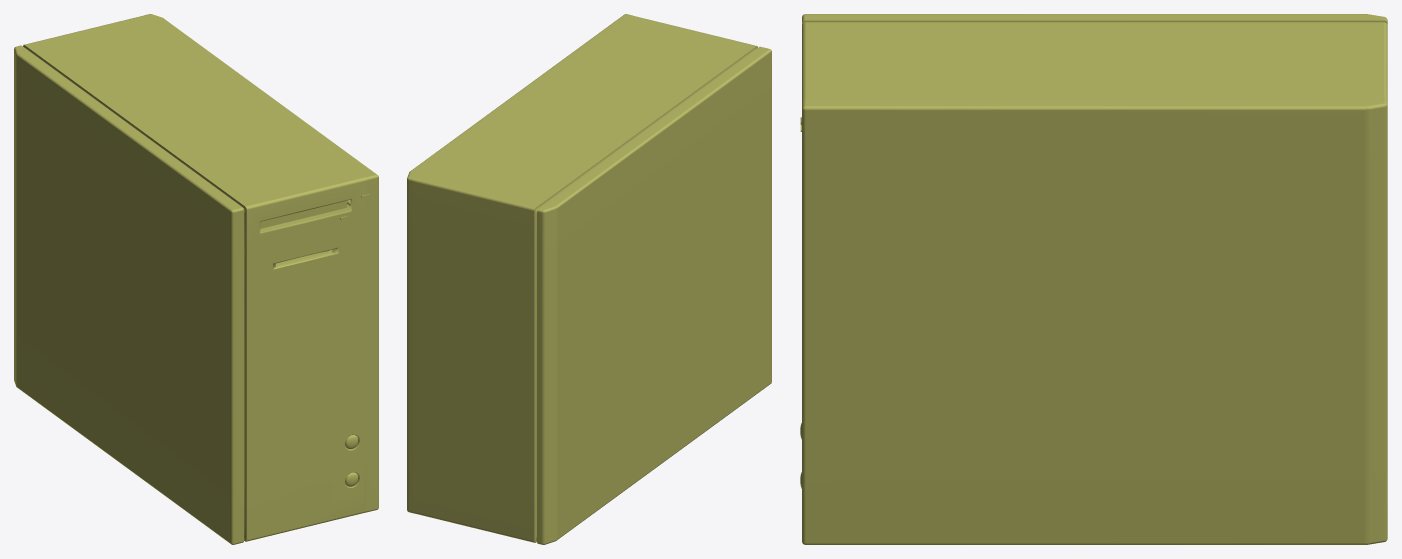
File: Computer_Gen_1_Tower.fbx
3 views of the same model, side by side, from view 1: azimuth 30°, elevation 25°; view 2: azimuth 150°, elevation 25°; view 3: azimuth 270°, elevation 25° (orthographic). The views are drawn at different scales.
Visible parts, largest first — view 1: q700; view 2: q700; view 3: q700.
Boxes of the visible parts, bbox=[...] form: q700: bbox=[14, 14, 378, 544]; q700: bbox=[407, 14, 771, 544]; q700: bbox=[800, 14, 1387, 544].
Size of the model in its own units: 20.63 by 44.62 by 54.16.
